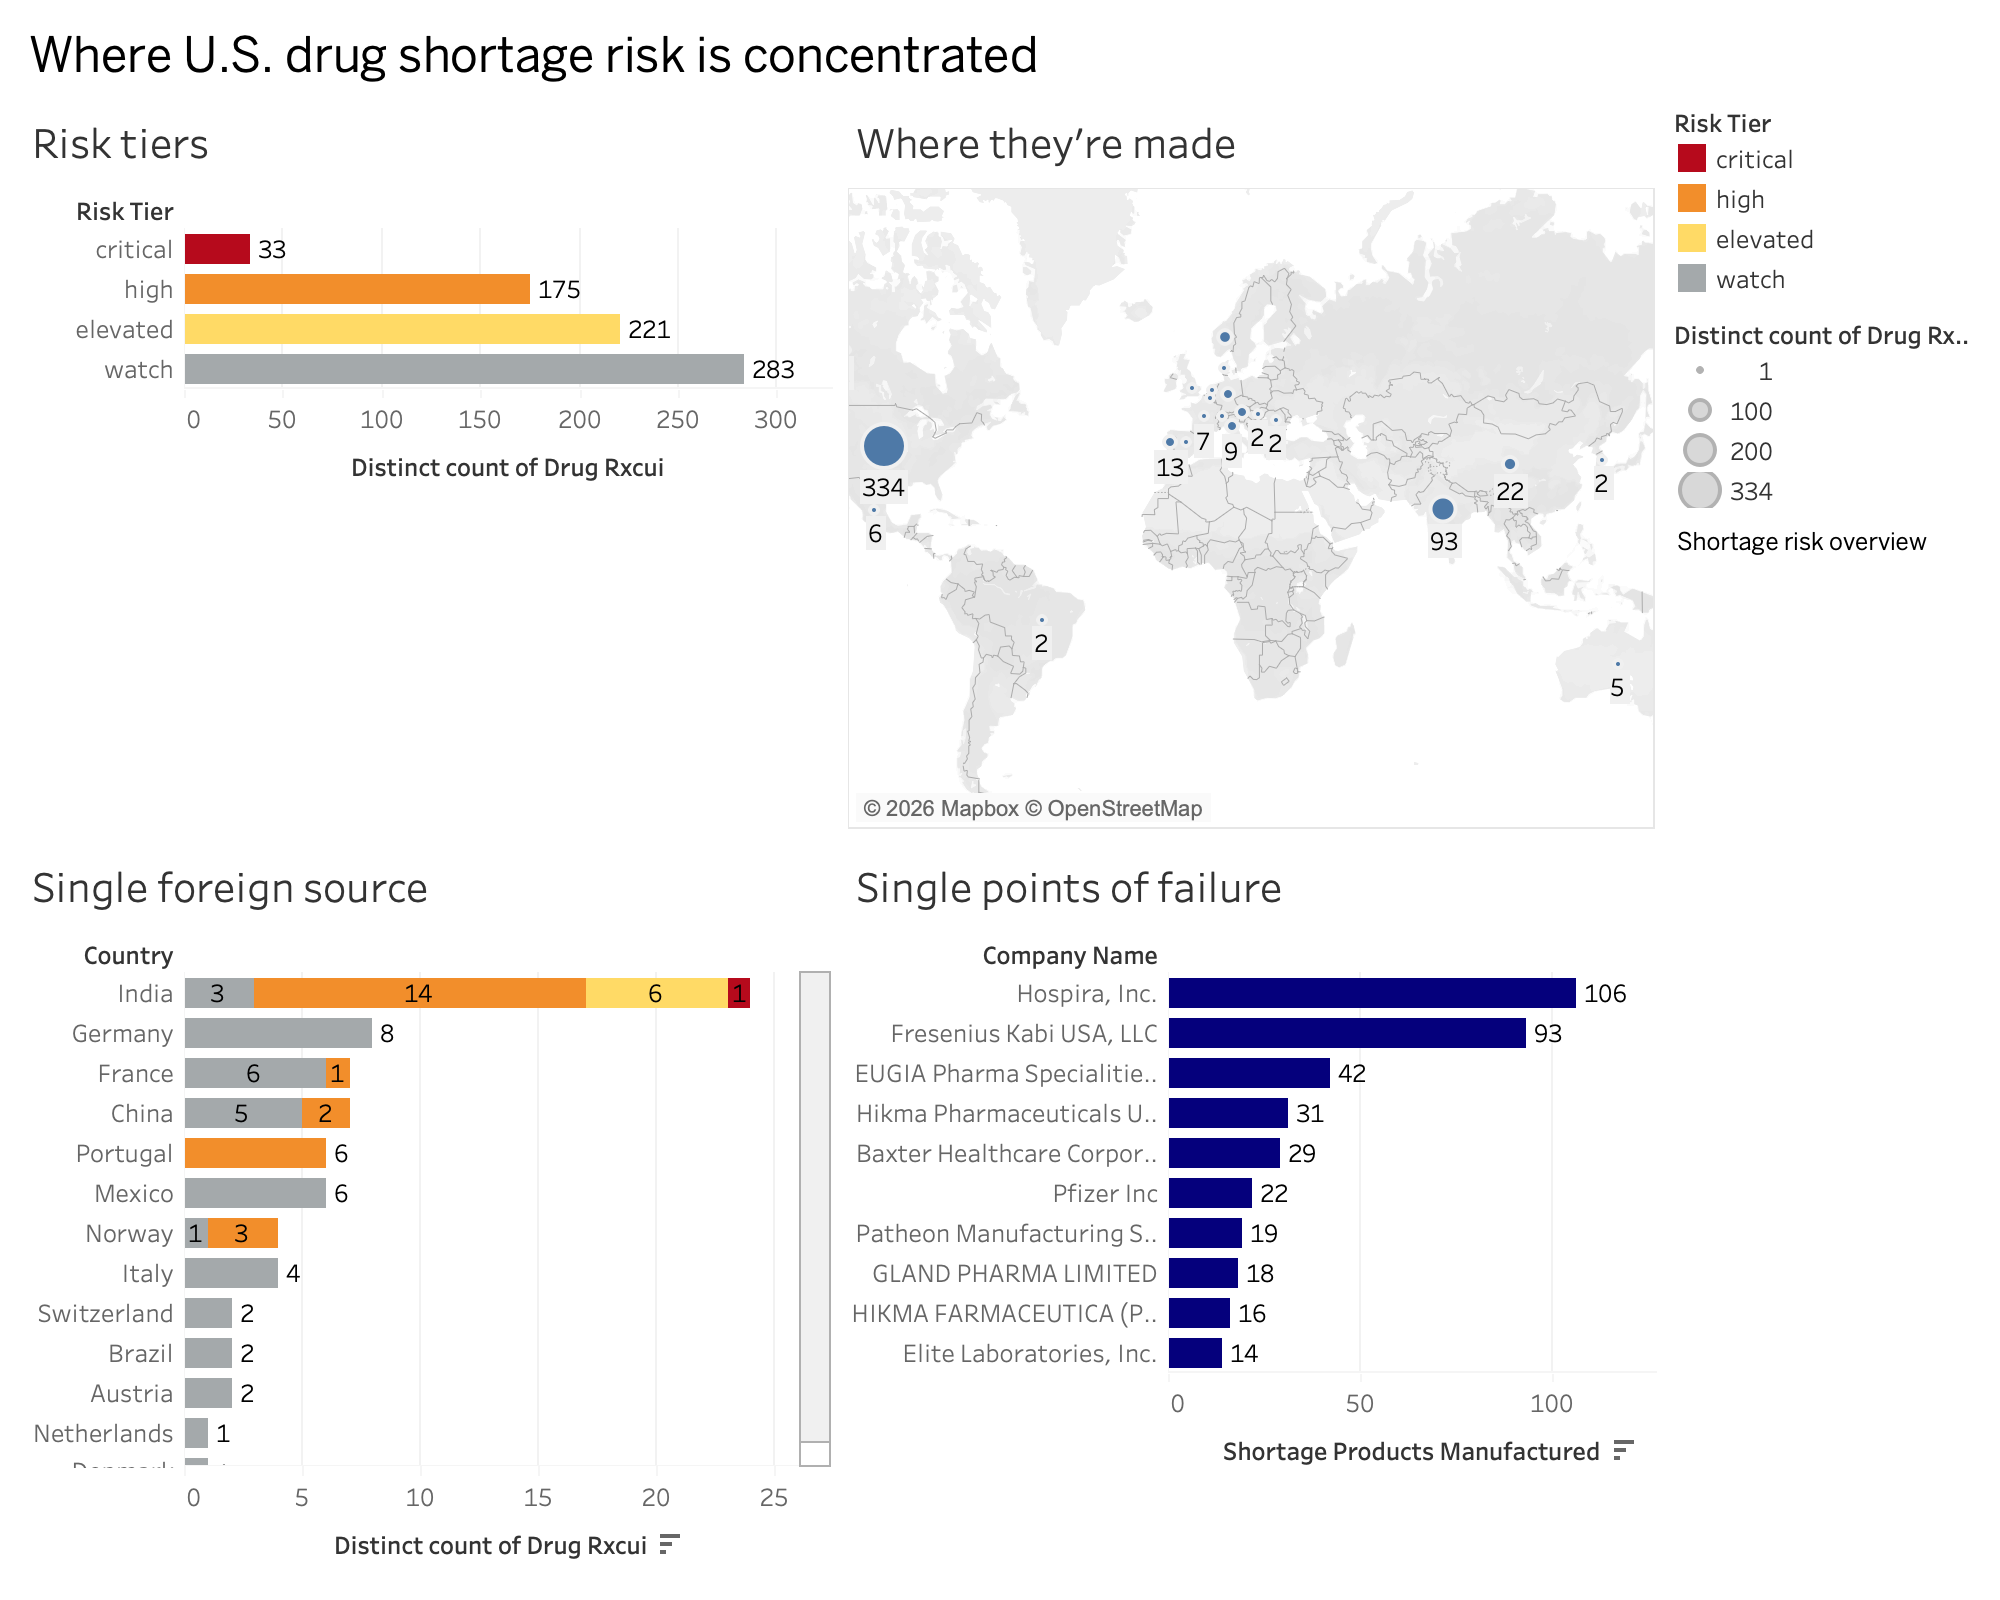

Layout of this report page (visuals, bound fields, positions):
{"tool":"tableau","page":{"name":"Dashboard 1","canvas":[1000,800],"ordinal":0},"visuals":[{"type":"title","box":[8,8,984,39]},{"type":"worksheet","title":"Risk tiers","mark":"Automatic","rows":["risk_tier"],"cols":["drug_rxcui"],"box":[8,47,412,372.5]},{"type":"worksheet","title":"Where they’re made","mark":"Automatic","box":[420,47,412,372.5]},{"type":"legend","title":"Risk tiers","param":"[federated.005c1071l3w4xs10fclk5132p0ji].[none:risk_tier:nk]","box":[832,47,160,106]},{"type":"legend","title":"Where they’re made","param":"[federated.005c1071l3w4xs10fclk5132p0ji].[ctd:drug_rxcui (drug_countries.csv):qk","box":[832,153,160,106]},{"type":"text","box":[832,259,160,24]},{"type":"worksheet","title":"Single foreign source","mark":"Automatic","rows":["country"],"cols":["drug_rxcui"],"box":[8,419.5,412,372.5]},{"type":"worksheet","title":"Single points of failure","mark":"Automatic","rows":["company_name"],"cols":["shortage_products_manufactured"],"box":[420,419.5,412,372.5]}]}

Visuals, with their boxes in screenshot pixels (x1, y1, x2, y2), scaled from the page's 1000x800 canvas onto the 2000x1600 screenshot:
title: [x1=16, y1=16, x2=1984, y2=94]
"Risk tiers" worksheet: [x1=16, y1=94, x2=840, y2=839]
"Where they’re made" worksheet: [x1=840, y1=94, x2=1664, y2=839]
"Risk tiers" legend: [x1=1664, y1=94, x2=1984, y2=306]
"Where they’re made" legend: [x1=1664, y1=306, x2=1984, y2=518]
text: [x1=1664, y1=518, x2=1984, y2=566]
"Single foreign source" worksheet: [x1=16, y1=839, x2=840, y2=1584]
"Single points of failure" worksheet: [x1=840, y1=839, x2=1664, y2=1584]
